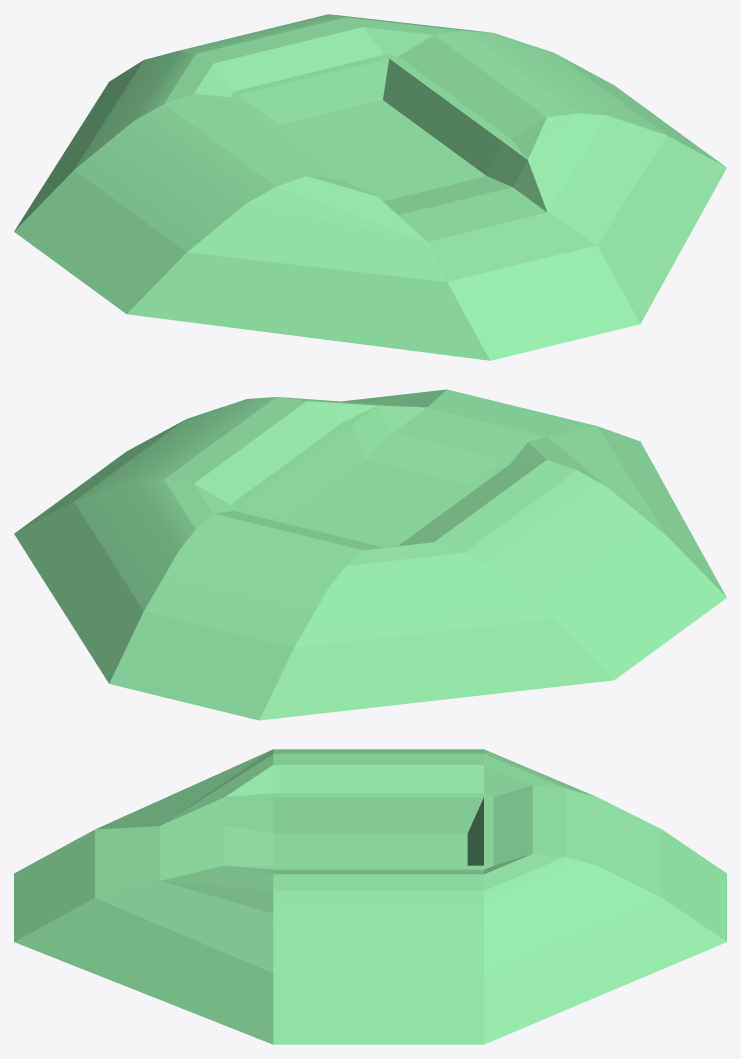
File: VehicleDugout_T72.fbx
The picture shows the model from 3 angles, top to bottom: view 1: azimuth 30°, elevation 25°; view 2: azimuth 150°, elevation 25°; view 3: azimuth 270°, elevation 25°; orthographic projection. The views are drawn at different scales.
Parts seen in each view (by area): view 1: UTM_VehicleDugoutT72; view 2: UTM_VehicleDugoutT72; view 3: UTM_VehicleDugoutT72.
Part boxes in pixels (bbox=[...]): UTM_VehicleDugoutT72: bbox=[14, 14, 726, 360]; UTM_VehicleDugoutT72: bbox=[14, 389, 726, 720]; UTM_VehicleDugoutT72: bbox=[14, 749, 726, 1044].
Bounding box in the file's own units: 2000 × 300 × 2200.
